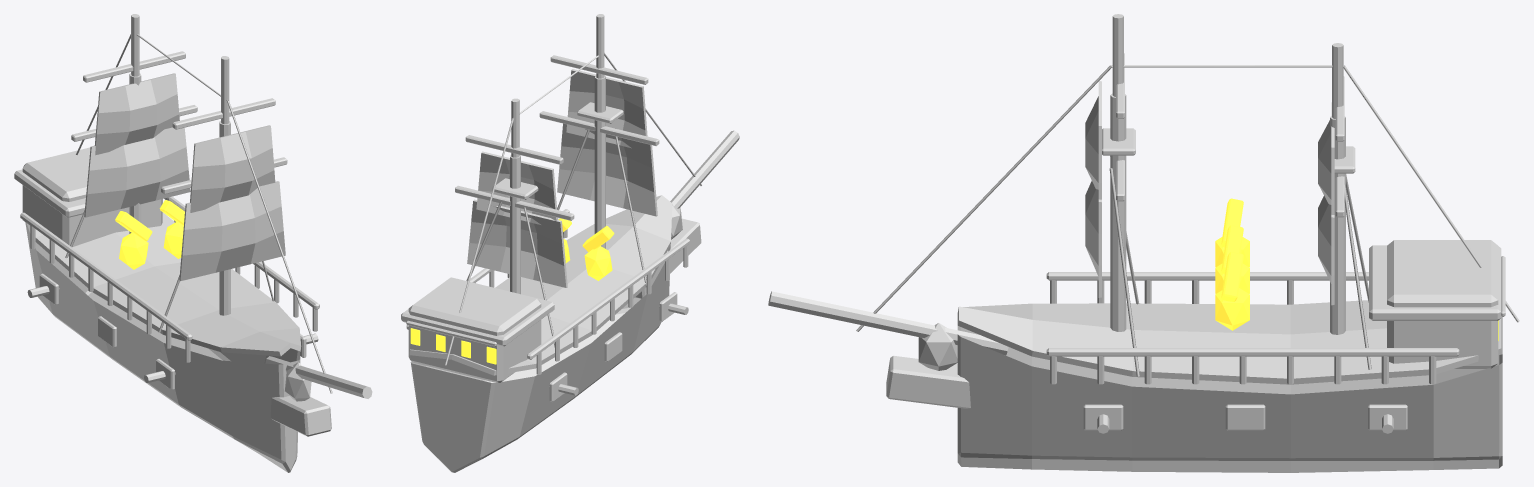
Rendered from enemy_fire_raider_v04.fbx.
The picture shows the model from 3 angles, left to right: view 1: azimuth 30°, elevation 25°; view 2: azimuth 150°, elevation 25°; view 3: azimuth 270°, elevation 25°; orthographic projection. The views are drawn at different scales.
Visible parts, largest first — view 1: Enemy_Corsair_Hull, Enemy_Corsair_Deck, Sail_1_1, Sail_2_1, Stern_GreatCabin, Sail_1_2, Sail_2_2, FireRaider_Burning_Ram, Tier_2_Starboard_TopRail, Bowsprit_Main, Stern_Quarterdeck, Yard_1_2 (+12 smaller); view 2: Enemy_Corsair_Hull, Enemy_Corsair_Deck, Stern_GreatCabin, Sail_1_1, Sail_2_1, Sail_1_2, Sail_2_2, Mast_1_Lower, Stern_Quarterdeck, Tier_2_Starboard_TopRail, Mast_2_Lower, Bowsprit_Main (+15 smaller); view 3: Enemy_Corsair_Hull, Enemy_Corsair_Deck, Stern_GreatCabin, Tier_2_Port_TopRail, FireRaider_Burning_Ram, Stern_Quarterdeck, Bowsprit_Main, Mast_1_Lower, Tier_2_Starboard_TopRail, Mast_2_Lower, Sail_1_2, Sail_1_1 (+13 smaller).
Part boxes in pixels (x1=…): Enemy_Corsair_Hull: x1=25, y1=222, x2=300, y2=472; Enemy_Corsair_Deck: x1=29, y1=212, x2=301, y2=356; Sail_1_1: x1=179, y1=181, x2=285, y2=281; Sail_2_1: x1=84, y1=127, x2=190, y2=217; Stern_GreatCabin: x1=22, y1=147, x2=162, y2=247; Sail_1_2: x1=190, y1=125, x2=275, y2=212; Sail_2_2: x1=94, y1=73, x2=179, y2=155; FireRaider_Burning_Ram: x1=270, y1=396, x2=331, y2=436; Tier_2_Starboard_TopRail: x1=20, y1=212, x2=192, y2=340; Bowsprit_Main: x1=265, y1=356, x2=372, y2=398; Stern_Quarterdeck: x1=14, y1=169, x2=85, y2=217; Yard_1_2: x1=172, y1=98, x2=275, y2=129; Enemy_Corsair_Hull: x1=410, y1=243, x2=670, y2=472; Enemy_Corsair_Deck: x1=409, y1=195, x2=672, y2=375; Stern_GreatCabin: x1=408, y1=277, x2=541, y2=382; Sail_1_1: x1=557, y1=123, x2=657, y2=216; Sail_2_1: x1=467, y1=199, x2=567, y2=287; Sail_1_2: x1=566, y1=69, x2=647, y2=148; Sail_2_2: x1=476, y1=151, x2=557, y2=224; Mast_1_Lower: x1=594, y1=75, x2=605, y2=248; Stern_Quarterdeck: x1=401, y1=277, x2=554, y2=346; Tier_2_Starboard_TopRail: x1=527, y1=238, x2=689, y2=359; Mast_2_Lower: x1=510, y1=155, x2=520, y2=294; Bowsprit_Main: x1=670, y1=130, x2=739, y2=208; Enemy_Corsair_Hull: x1=957, y1=326, x2=1502, y2=472; Enemy_Corsair_Deck: x1=957, y1=300, x2=1502, y2=384; Stern_GreatCabin: x1=1387, y1=240, x2=1498, y2=368; Tier_2_Port_TopRail: x1=1046, y1=348, x2=1459, y2=356; FireRaider_Burning_Ram: x1=886, y1=355, x2=970, y2=408; Stern_Quarterdeck: x1=1369, y1=245, x2=1501, y2=320; Bowsprit_Main: x1=768, y1=291, x2=1008, y2=355; Mast_1_Lower: x1=1110, y1=93, x2=1126, y2=331; Tier_2_Starboard_TopRail: x1=1046, y1=272, x2=1368, y2=280; Mast_2_Lower: x1=1330, y1=115, x2=1345, y2=334; Sail_1_2: x1=1085, y1=81, x2=1101, y2=199; Sail_1_1: x1=1085, y1=181, x2=1101, y2=297.
Bounding box in the file's own units: 1.29 × 2.71 × 4.05.
